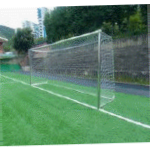goals: (28, 27, 118, 116)
